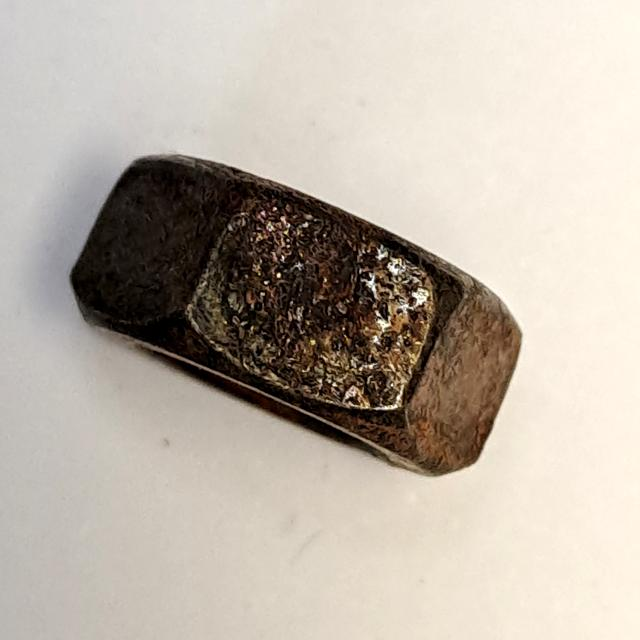Side_Rust: (53, 137, 538, 499)
